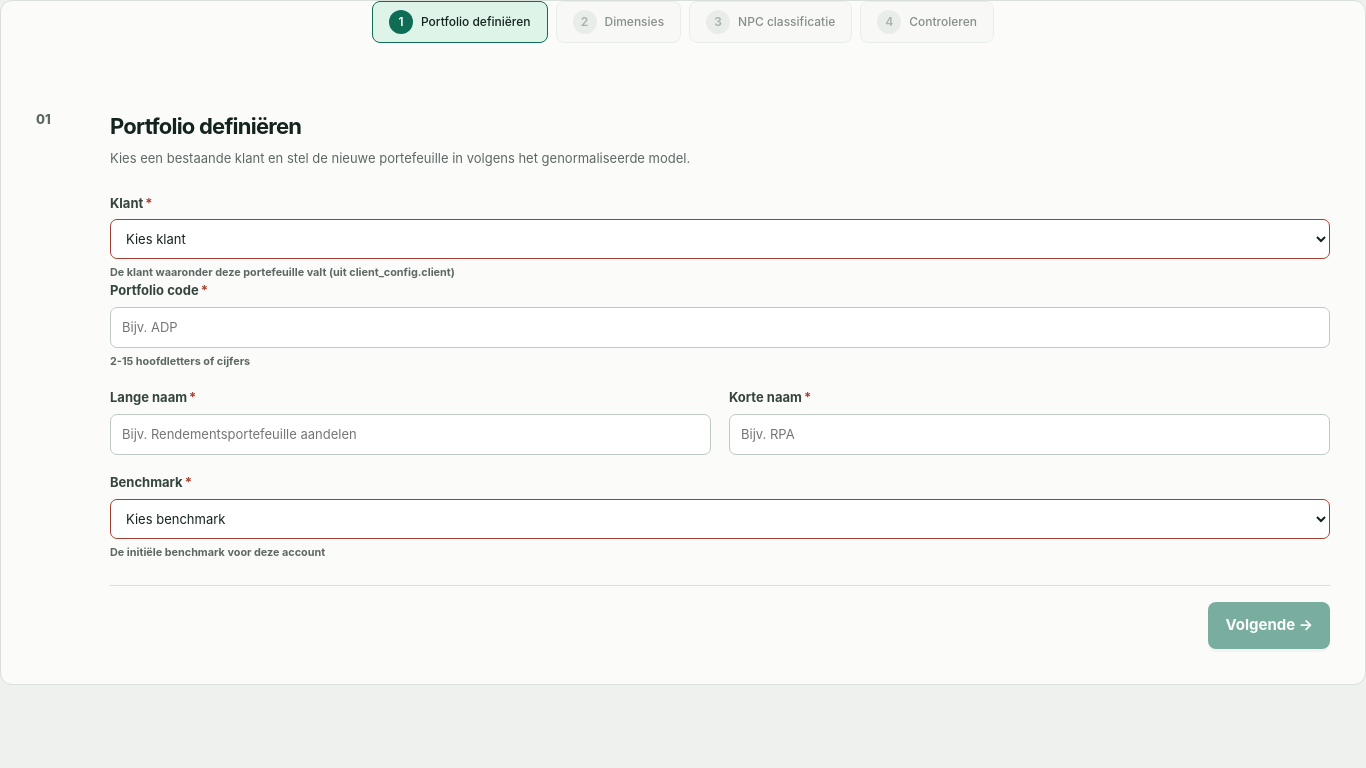
PortfolioConfigurationCreateForm › requires an explicit client before the user can continue
Expected: the button "Volgende →" is disabled, 1208,602 -> 1330,649
# Selecting a client prefills the portfolio code with the client code
Select "HOR — Pensioenfonds Horizon" in the dropdown labelled "Klant" at (720, 239), box 110,219 -> 1330,259
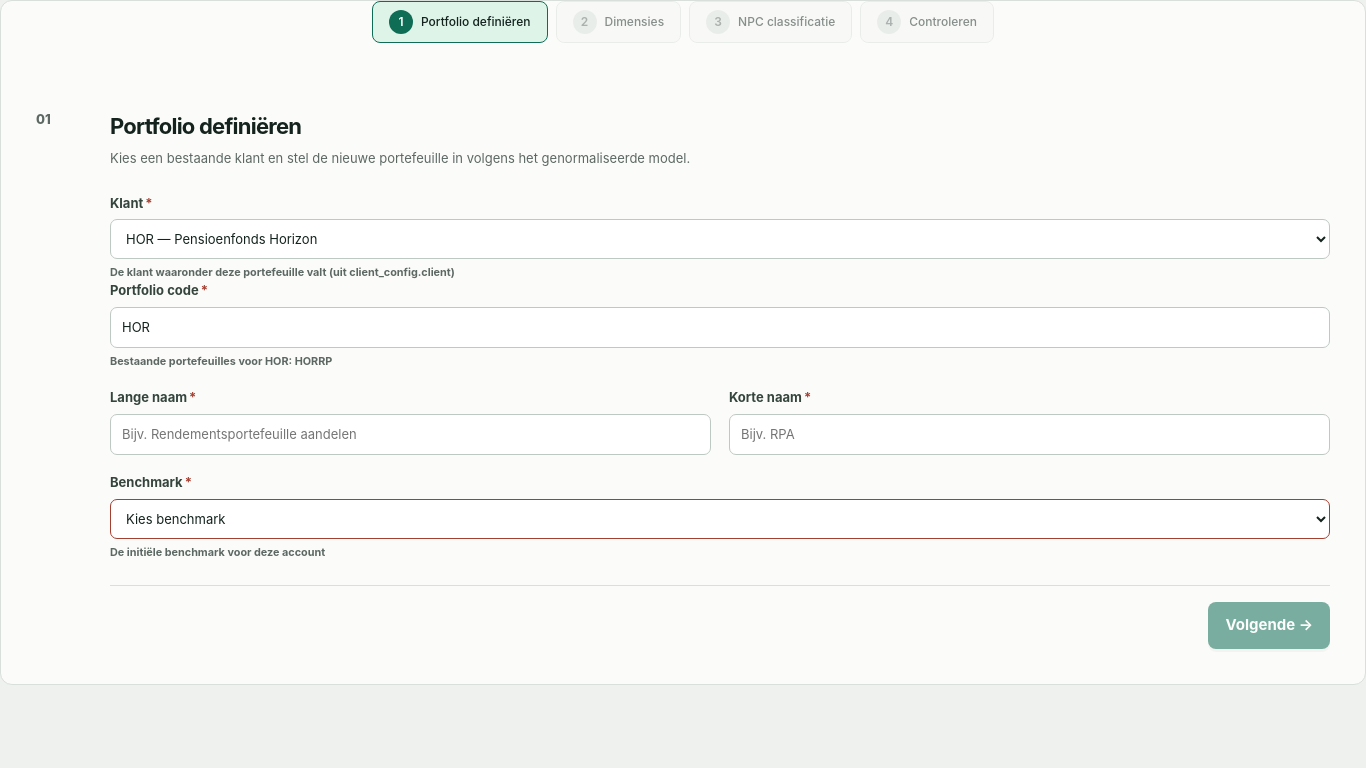
Expected: the button "Volgende →" is disabled, 1208,602 -> 1330,649
Now the field labelled "Portfolio code* Bestaande portefeuilles voor HOR: HORRP" holds "HOR", box 110,307 -> 1330,348
